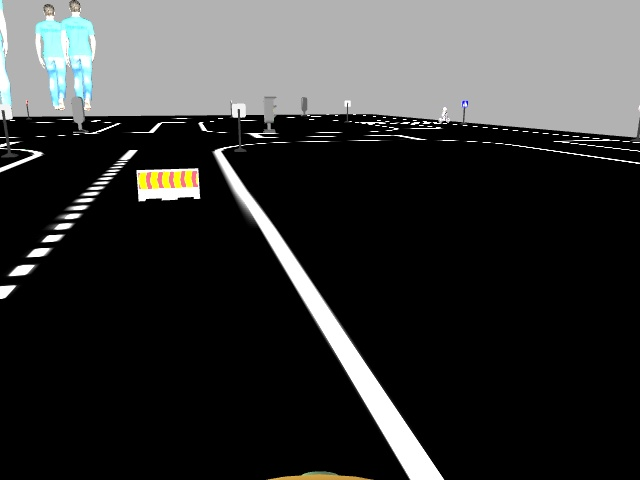ClosedRoadStand: (136, 170, 199, 196)
